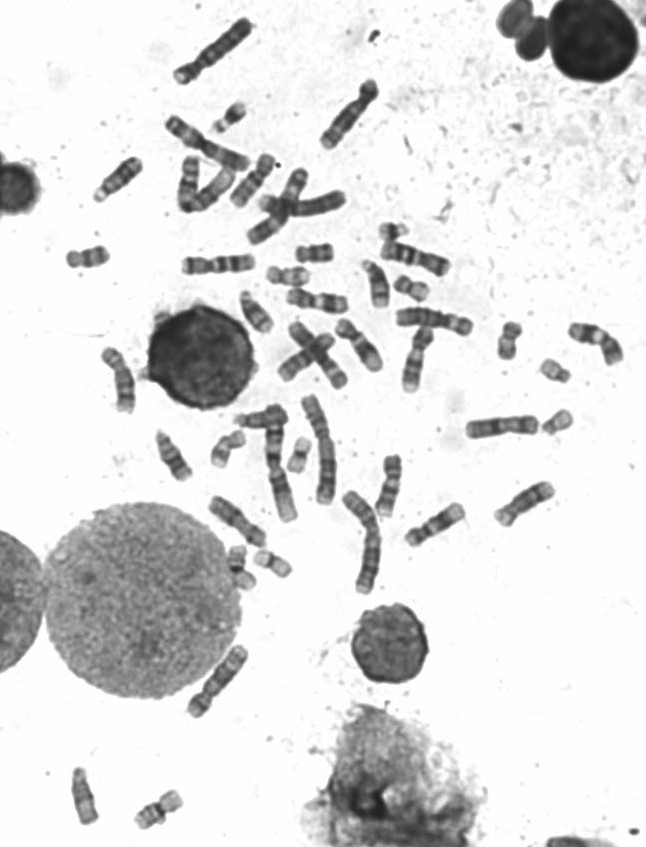chromosomes: (171, 10, 256, 93), (240, 163, 312, 252), (184, 634, 254, 724), (163, 111, 254, 177), (315, 73, 385, 156), (295, 391, 343, 508), (337, 486, 384, 599), (286, 316, 352, 392), (264, 420, 305, 529), (488, 476, 563, 533), (176, 154, 242, 218), (271, 328, 341, 386), (93, 342, 144, 419), (559, 319, 631, 373), (205, 491, 271, 549), (172, 245, 264, 286), (332, 311, 390, 376), (255, 184, 351, 223), (401, 498, 468, 551), (127, 782, 192, 836), (228, 148, 282, 212), (462, 408, 545, 449), (389, 300, 478, 338), (89, 152, 150, 207), (375, 238, 454, 280), (397, 323, 443, 395), (151, 423, 198, 489), (57, 235, 121, 282), (368, 449, 407, 524), (65, 763, 104, 831), (225, 399, 296, 436), (278, 284, 353, 317), (234, 285, 277, 337), (356, 256, 395, 313), (207, 96, 254, 140), (207, 426, 251, 472), (223, 540, 257, 597), (290, 234, 341, 270), (493, 314, 527, 366), (251, 546, 298, 582), (264, 261, 316, 291), (286, 432, 317, 481), (534, 354, 579, 387), (541, 404, 579, 442), (393, 273, 436, 305), (374, 213, 415, 245)
